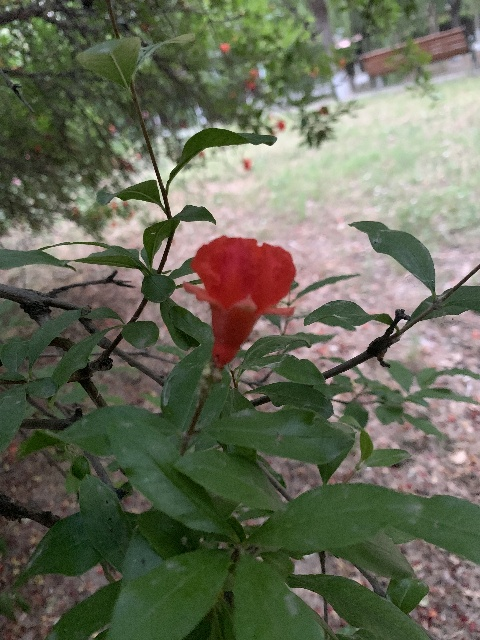flower: (182, 235, 296, 368)
